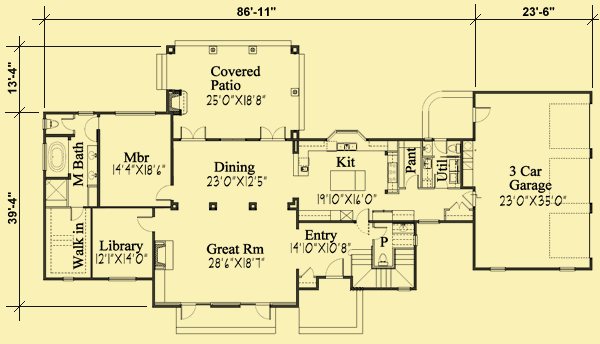door: (257, 123, 289, 141), (324, 258, 346, 282), (470, 103, 493, 125), (179, 124, 207, 142), (179, 302, 197, 323), (134, 214, 156, 231), (155, 183, 174, 202), (254, 303, 272, 321), (68, 205, 85, 221), (406, 173, 419, 190), (447, 202, 468, 212), (299, 266, 316, 278), (434, 139, 447, 154)
kitchen_bar: (329, 168, 368, 194)
large_sink: (44, 116, 62, 132), (376, 251, 389, 268)
small_sink: (87, 143, 99, 185)
stairs: (351, 241, 414, 292)
tub: (45, 133, 70, 177)
twin_sink: (334, 141, 357, 150)
windows: (209, 298, 242, 311), (108, 276, 138, 283)
